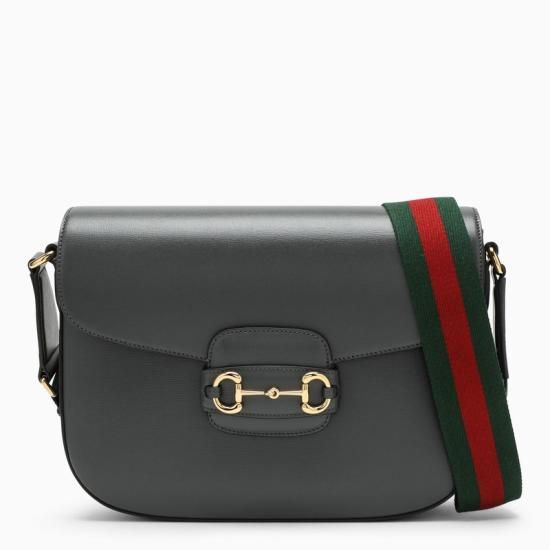Gucci: (30, 205, 500, 529), (373, 179, 518, 503), (194, 349, 384, 439)
